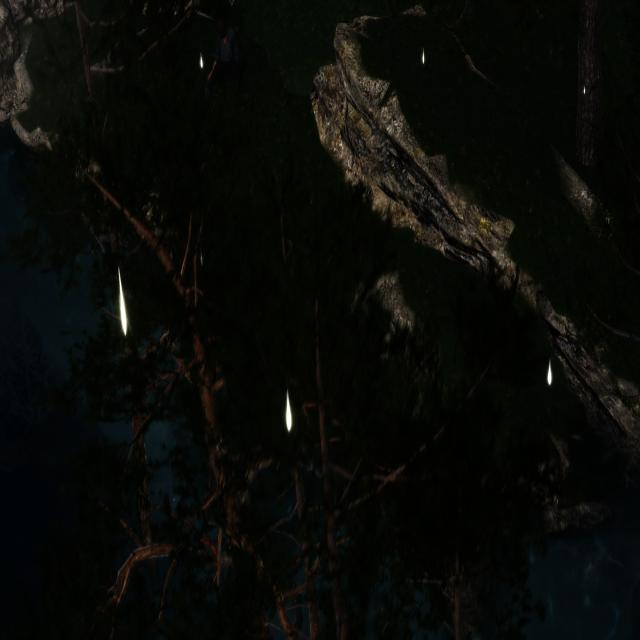Human: (195, 20, 252, 114)
